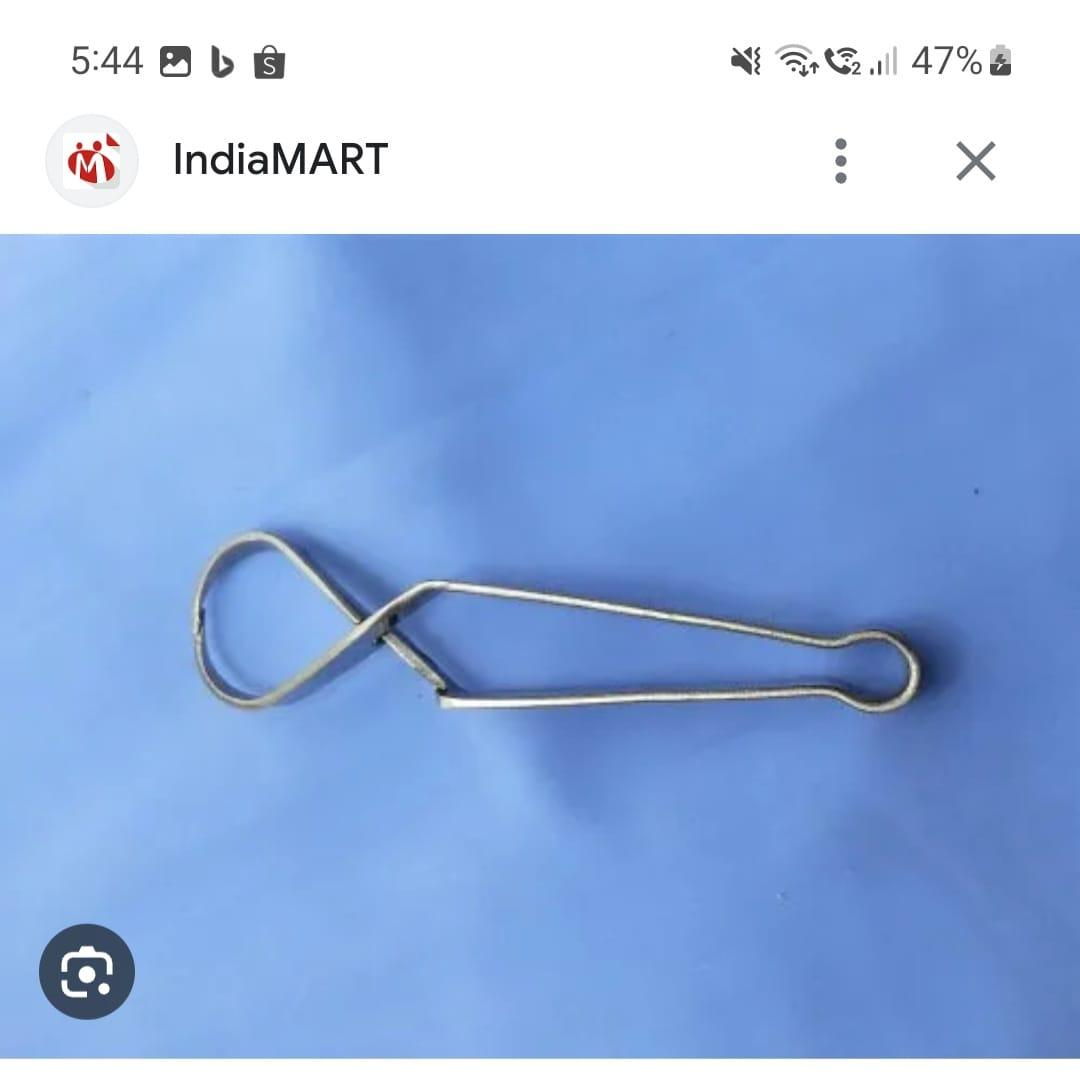Doyen Cross Action Towel Clamp: (187, 513, 930, 748)
